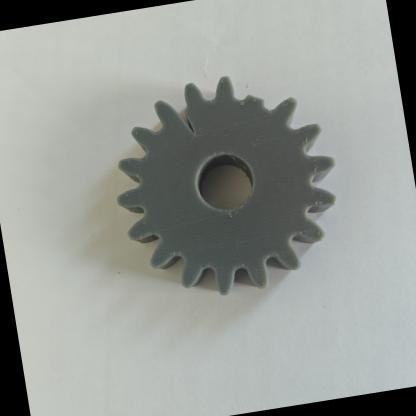defect: (228, 72, 301, 136), (150, 84, 216, 152)
gear: (95, 44, 358, 322)
